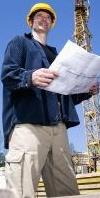hard-hat: (26, 1, 57, 26)
